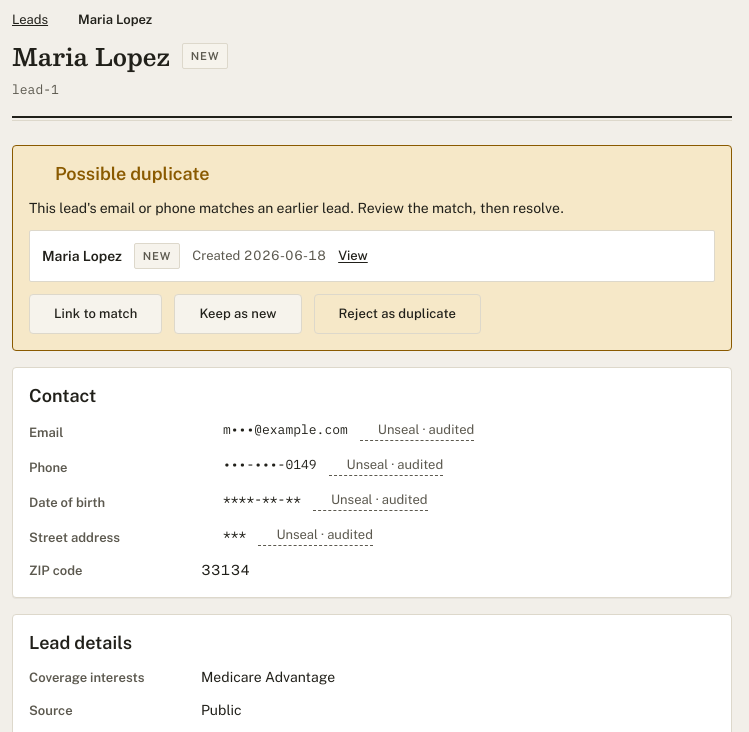
Test: LeadDetailPage duplicate panel › resolves the duplicate as new and clears the flag
Click the button with id "lead-detail-duplicate-new-button" at coordinates (238, 314), box 174,294 -> 302,334
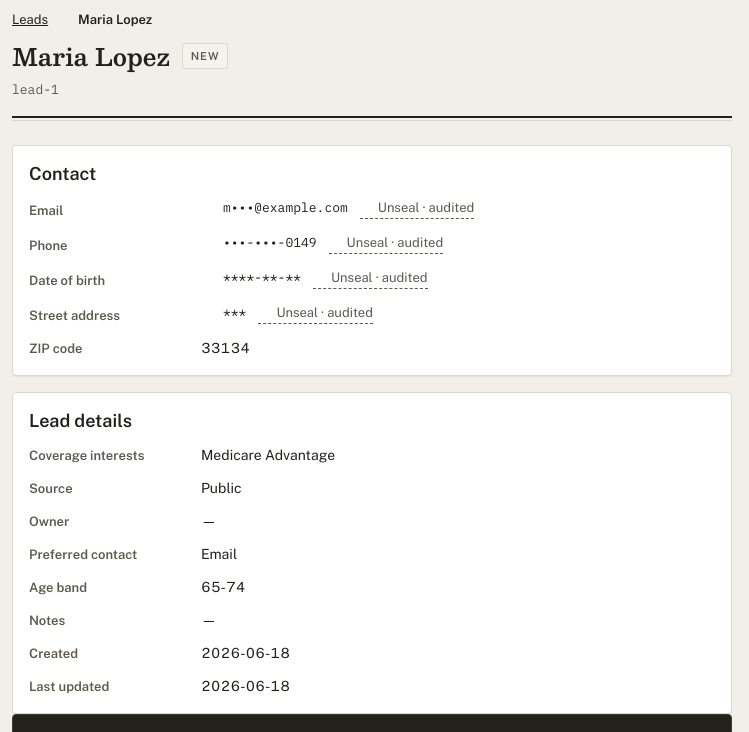
Expected: the element with id "lead-detail-duplicate-panel" is gone
